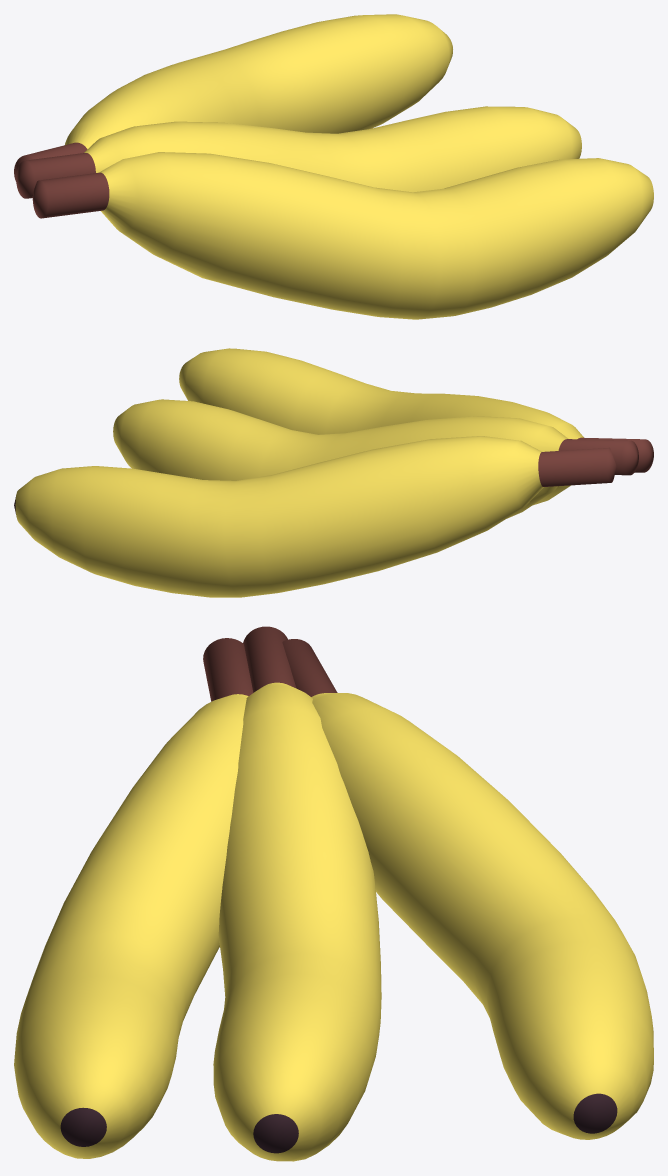
File: Banana.fbx
3 views of the same model, one above another, from view 1: azimuth 30°, elevation 25°; view 2: azimuth 150°, elevation 25°; view 3: azimuth 270°, elevation 25° (orthographic). The views are drawn at different scales.
Visible parts, largest first — view 1: Sphere.002; view 2: Sphere.002; view 3: Sphere.002.
Boxes of the visible parts, bbox=[...] form: Sphere.002: bbox=[14, 14, 653, 319]; Sphere.002: bbox=[14, 348, 653, 597]; Sphere.002: bbox=[14, 626, 653, 1161].
Size of the model in its own units: 380 by 121 by 286.
